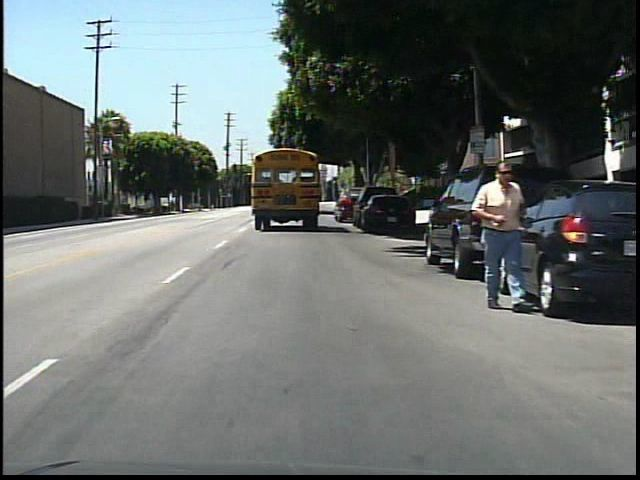person: (470, 151, 535, 318)
